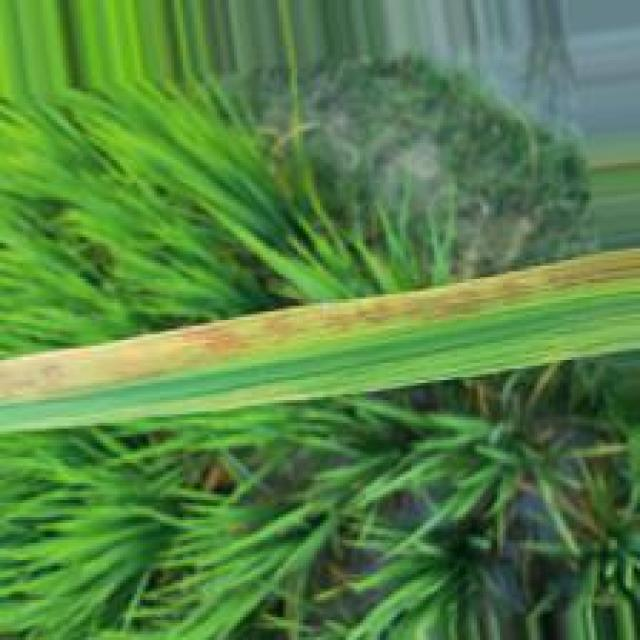Bacterial_Leaf_Blight: (0, 246, 638, 397)
